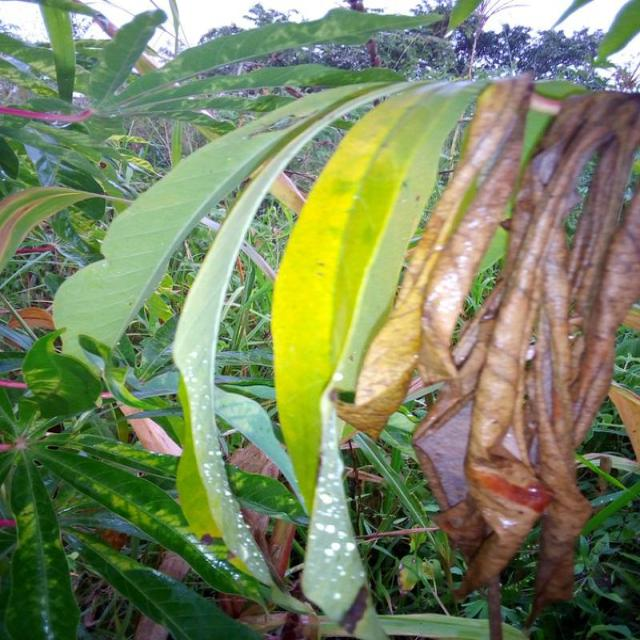cassava leaf: (269, 74, 496, 518)
